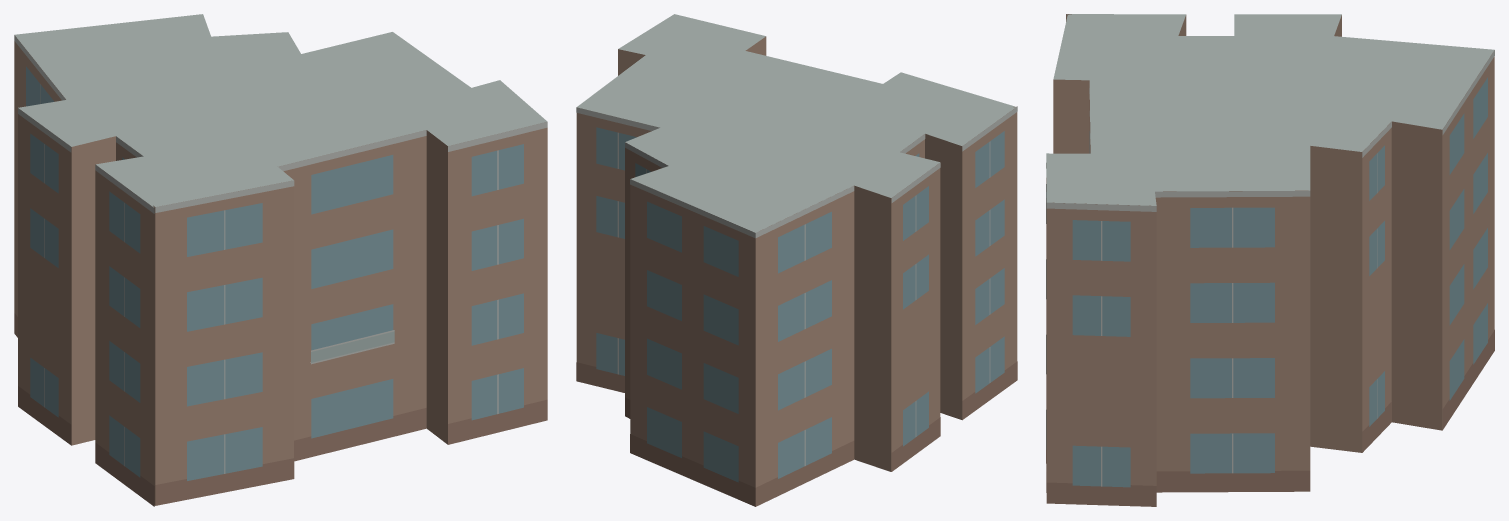
The model's file is survey-upis-32917058.glb.
3 renders of one model, left to right at view 1: azimuth 30°, elevation 25°; view 2: azimuth 150°, elevation 25°; view 3: azimuth 270°, elevation 25°, orthographic. The views are drawn at different scales.
Visible parts, largest first — view 1: survey-upis-32917058.tmp; view 2: survey-upis-32917058.tmp; view 3: survey-upis-32917058.tmp.
Part boxes in pixels (x1,y1,x2,y2): survey-upis-32917058.tmp: [14, 14, 547, 506]; survey-upis-32917058.tmp: [576, 14, 1017, 506]; survey-upis-32917058.tmp: [1046, 14, 1494, 506].
Size of the model in its own units: 16.7 by 12.2 by 16.49.
